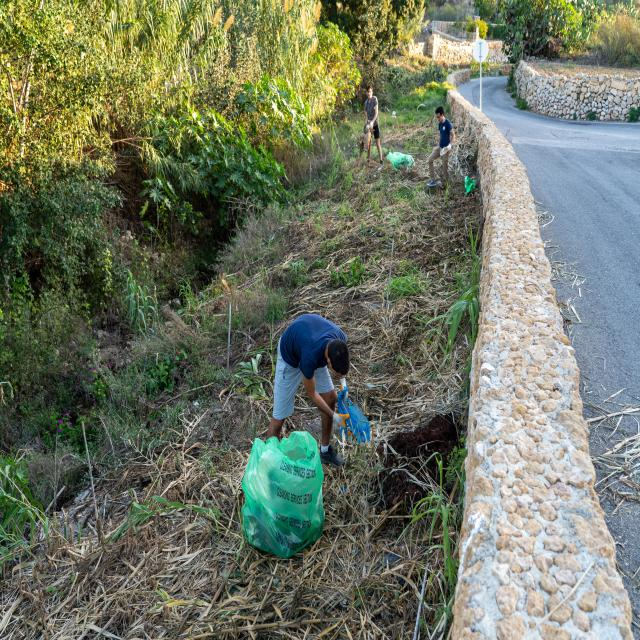Bottle: (439, 147, 448, 157)
Other litter: (358, 120, 375, 155)
Other plastic: (339, 486, 348, 496)
Plastic bag - wrapper: (240, 430, 326, 562), (337, 385, 371, 446), (386, 152, 416, 170), (464, 176, 475, 196)
